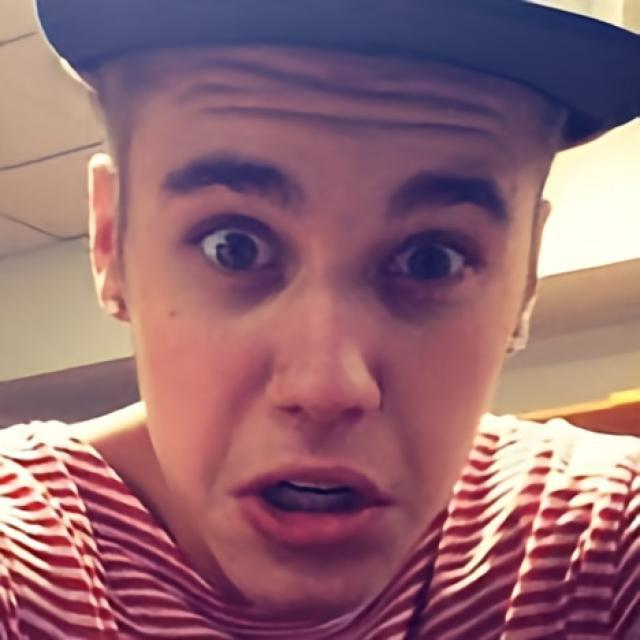fear: (116, 40, 538, 618)
